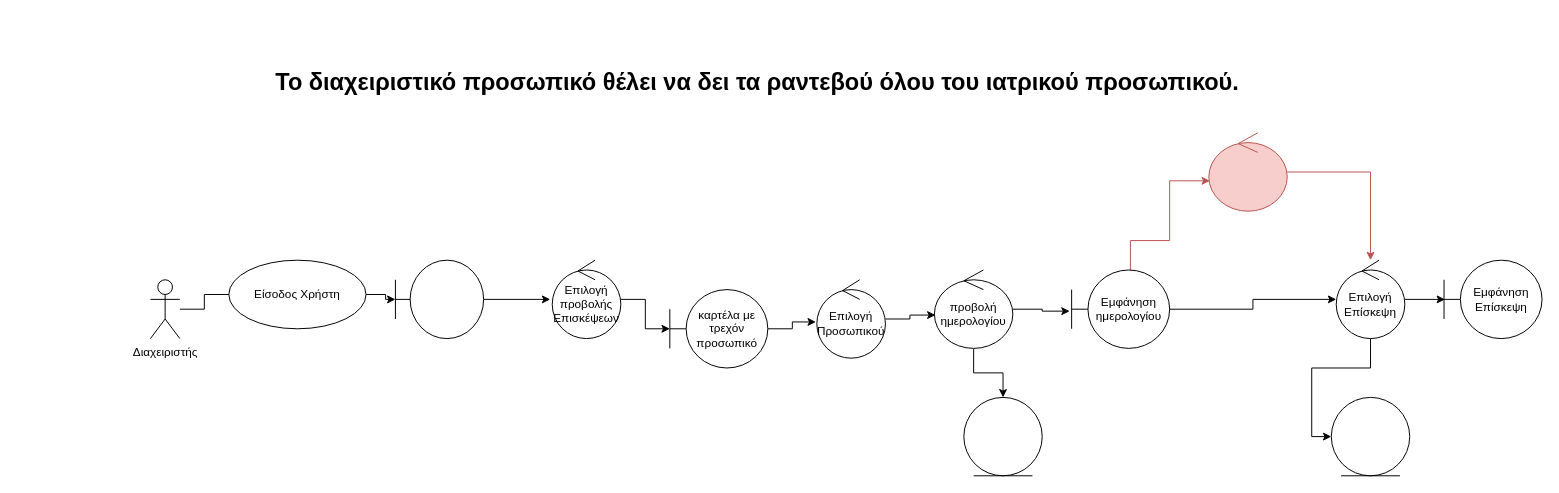
This 1559x493 diagram has some shape labels left out. Here are the shapes that lost their labels. From the top down, the centre of each, then its label:
the point at 1247,171: Επιλογή συγκεκριμένης ημερομηνίας
the point at 439,299: Αρχική οθόνη
the point at 1002,436: Ημερολόγιο
the point at 1370,436: Επίσκεψη
